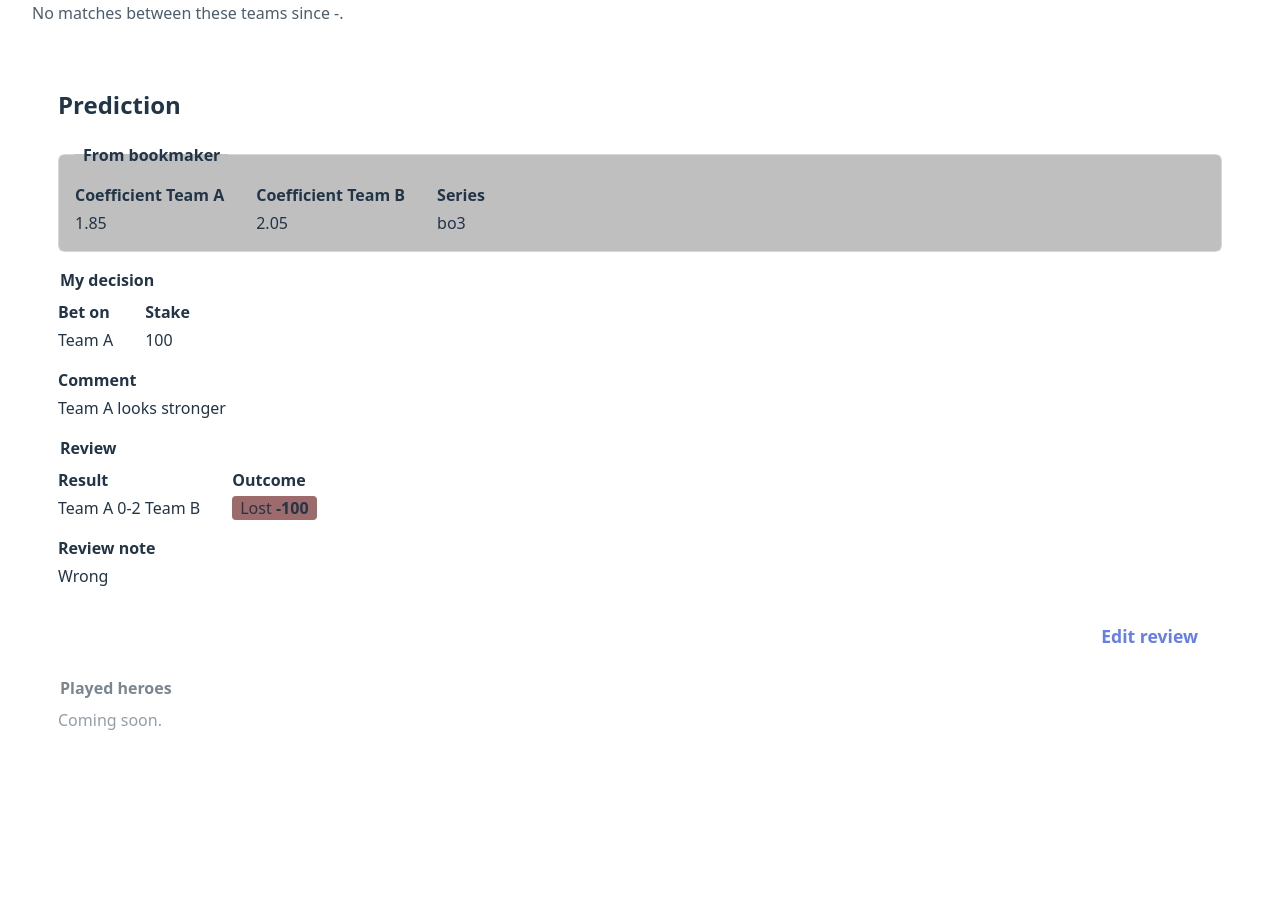
Test: PredictionDetail › opens Edit review with the saved result selected
(page scrolled)
Click the button "Edit review".
click(1150, 636)  # box top-left (1077, 612), bottom-right (1222, 660)
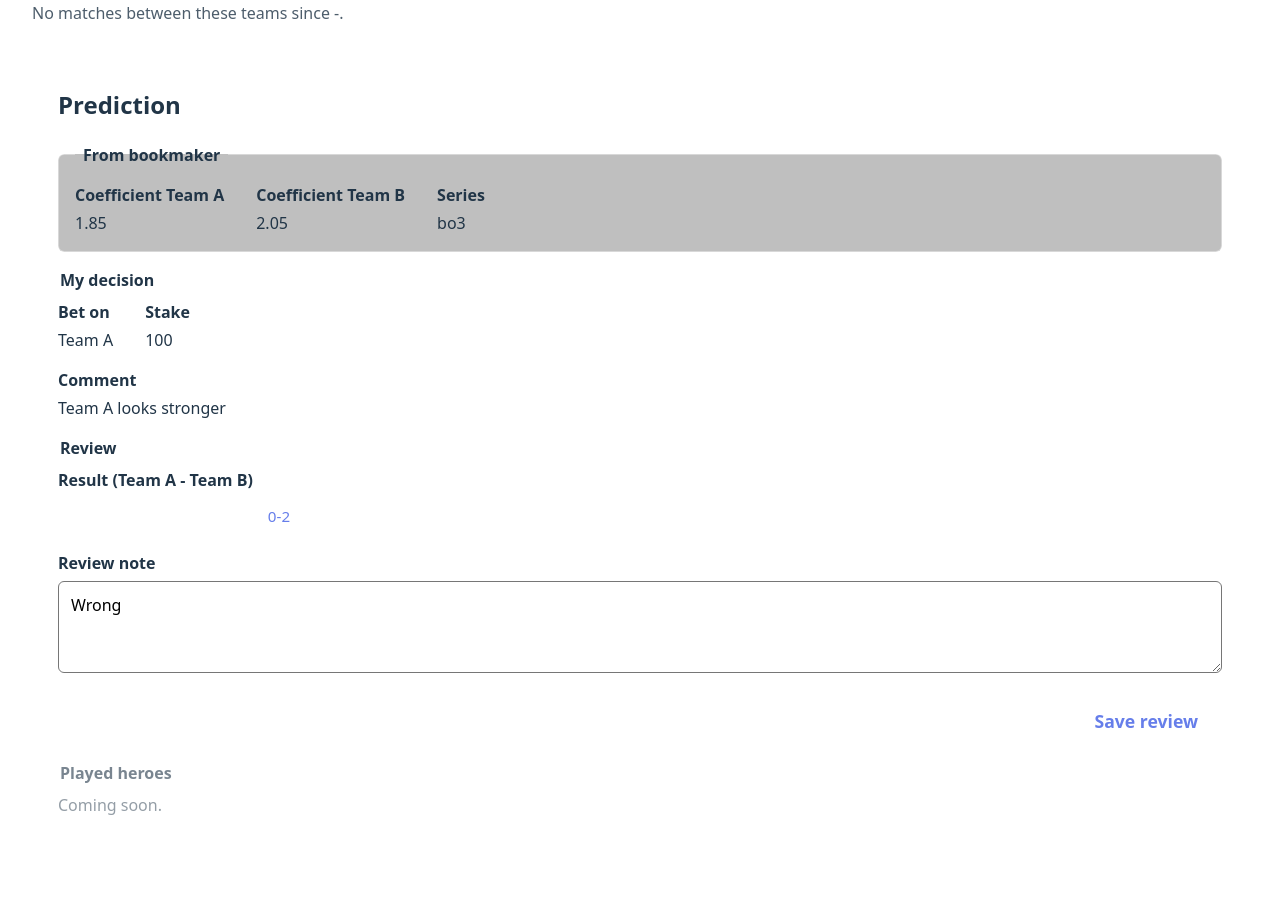
expect the text box labelled "Review note" holds "Wrong": met, box top-left (58, 581), bottom-right (1222, 673)
